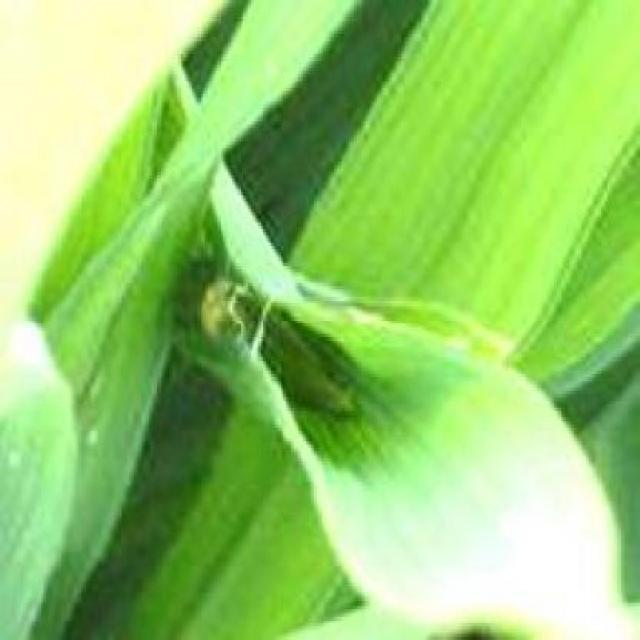leaf-folder: (192, 231, 370, 449)
